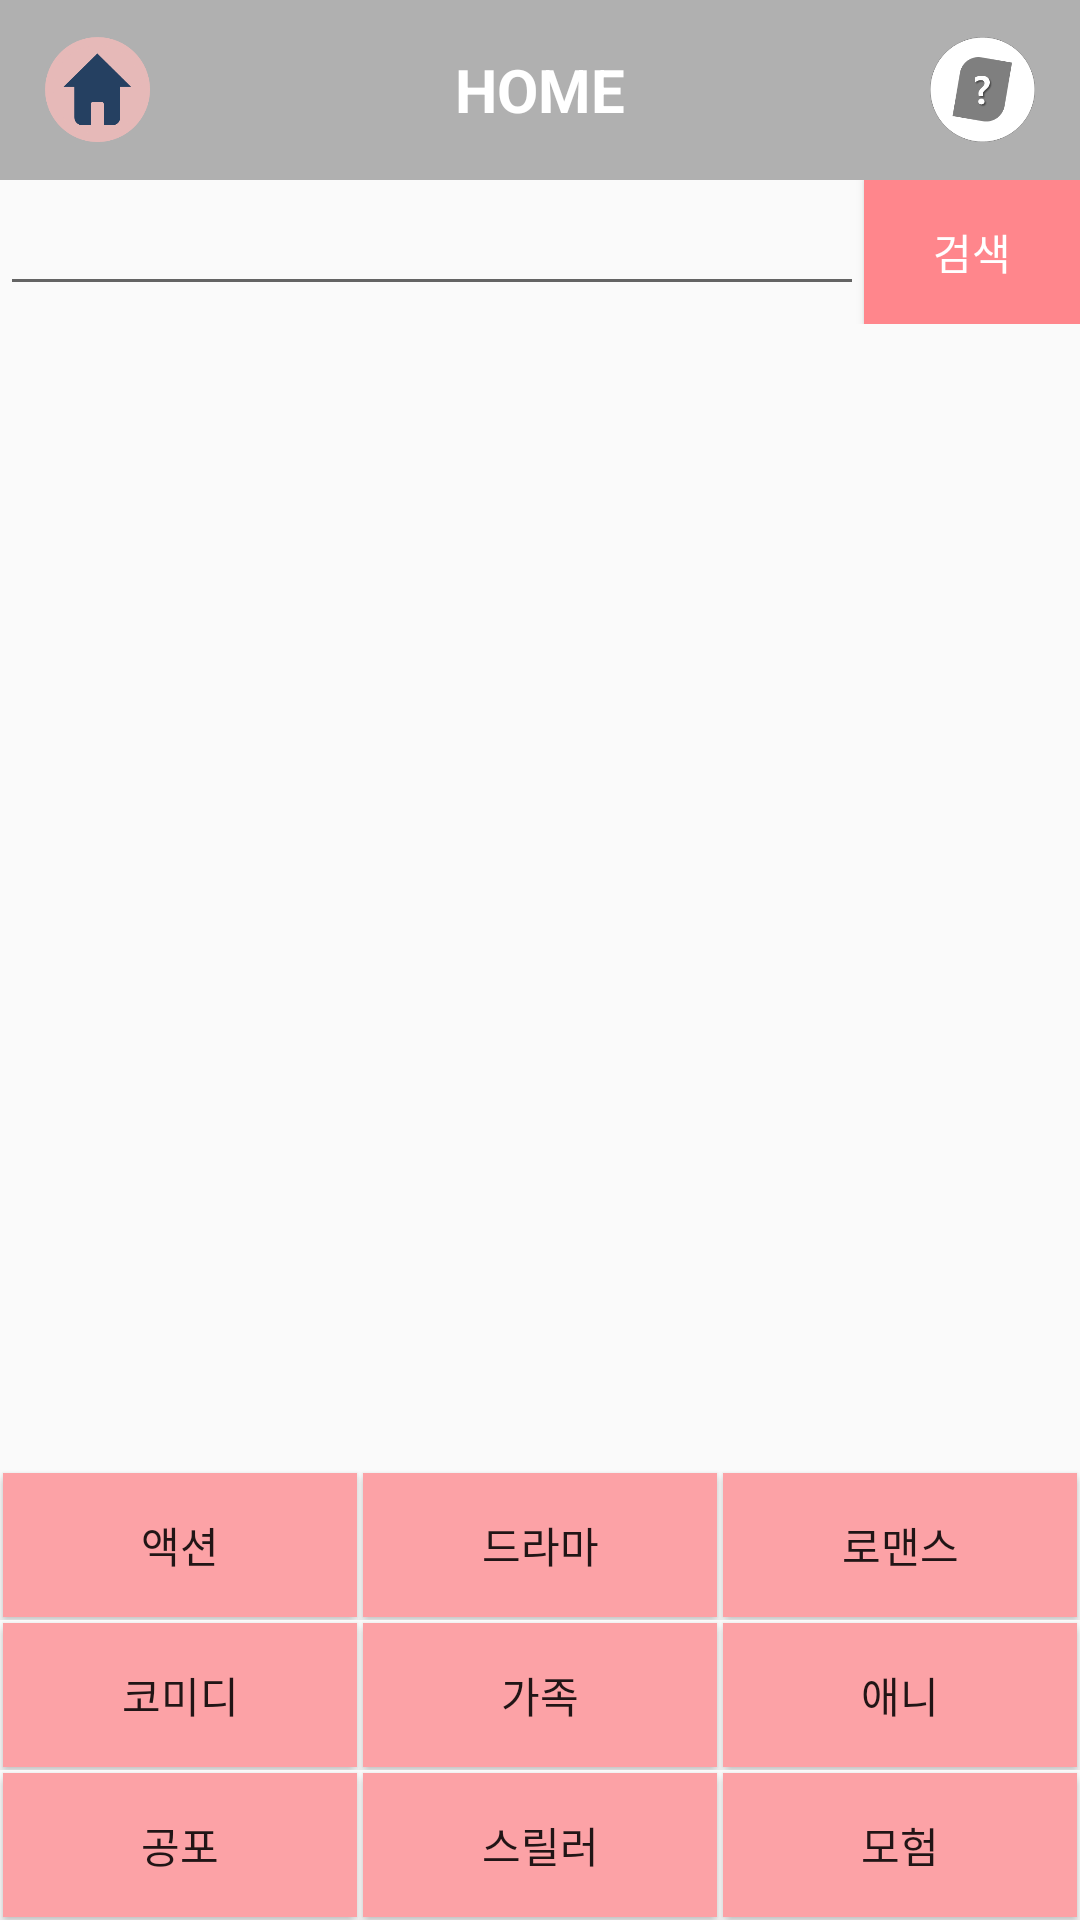

Icon click points for this 1080w x 1920h phone screenshot, format point (x, y):
homebutton: point (97, 89)
sulmunbutton: point (982, 89)
